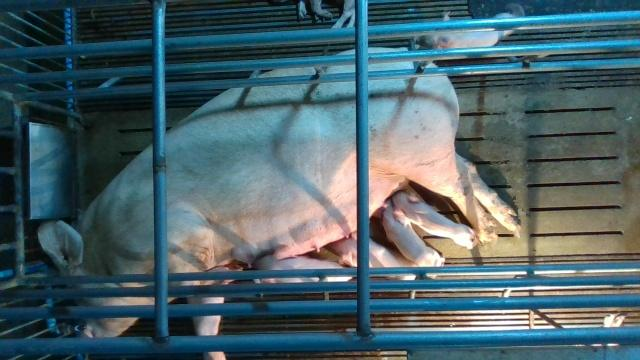piglet: (390, 190, 477, 249), (382, 200, 445, 279), (334, 233, 416, 280), (416, 12, 518, 48), (250, 254, 352, 282)
sow-sleep-lactate: (37, 50, 521, 360)
